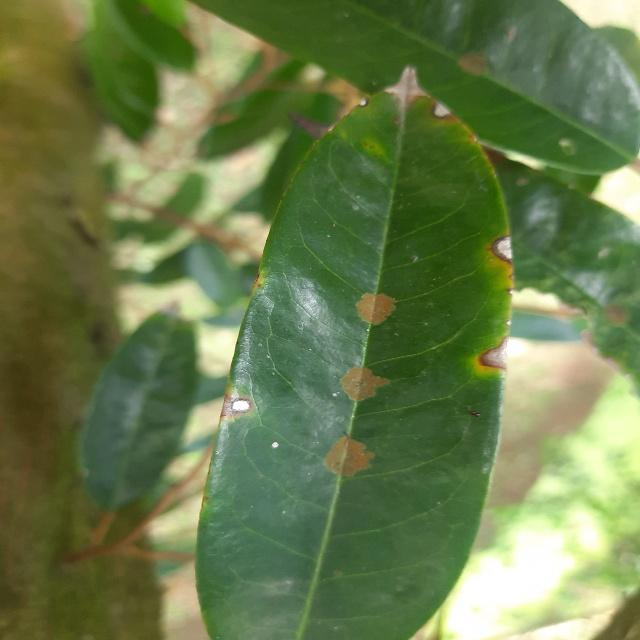Algal Leaf Spot: (189, 62, 525, 640)
